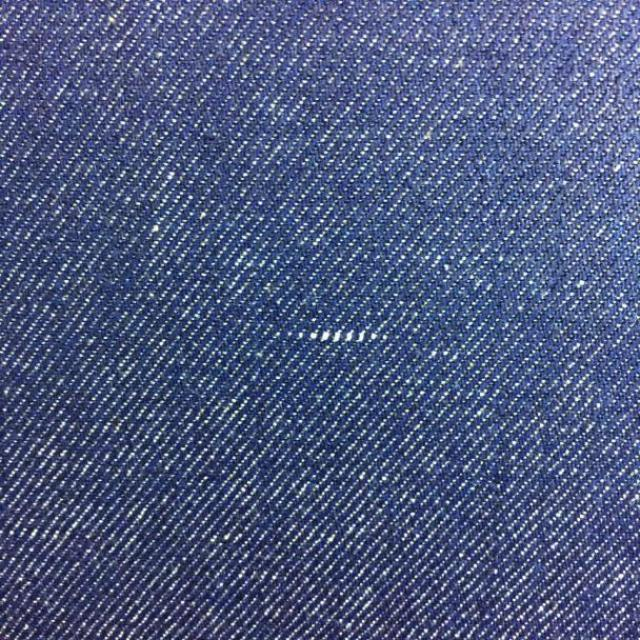Knot: (287, 329, 388, 344)
